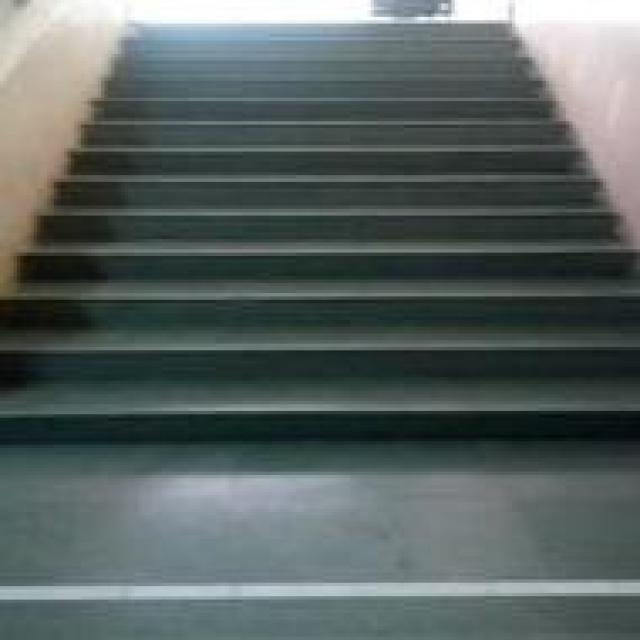Stairs: (60, 17, 617, 469)
